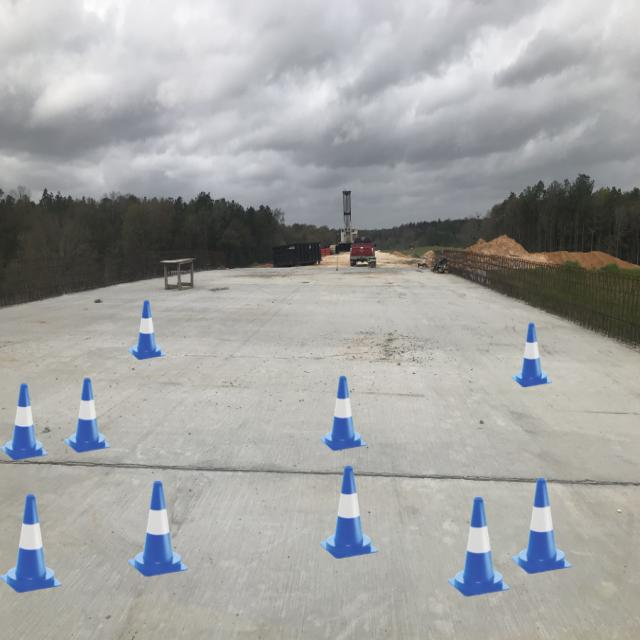blue_cone: (0, 494, 62, 593), (448, 497, 510, 596), (511, 478, 572, 574), (128, 481, 188, 577), (320, 466, 378, 558), (0, 383, 48, 460), (319, 376, 366, 451), (64, 378, 111, 452), (511, 323, 552, 387), (128, 300, 165, 360)
